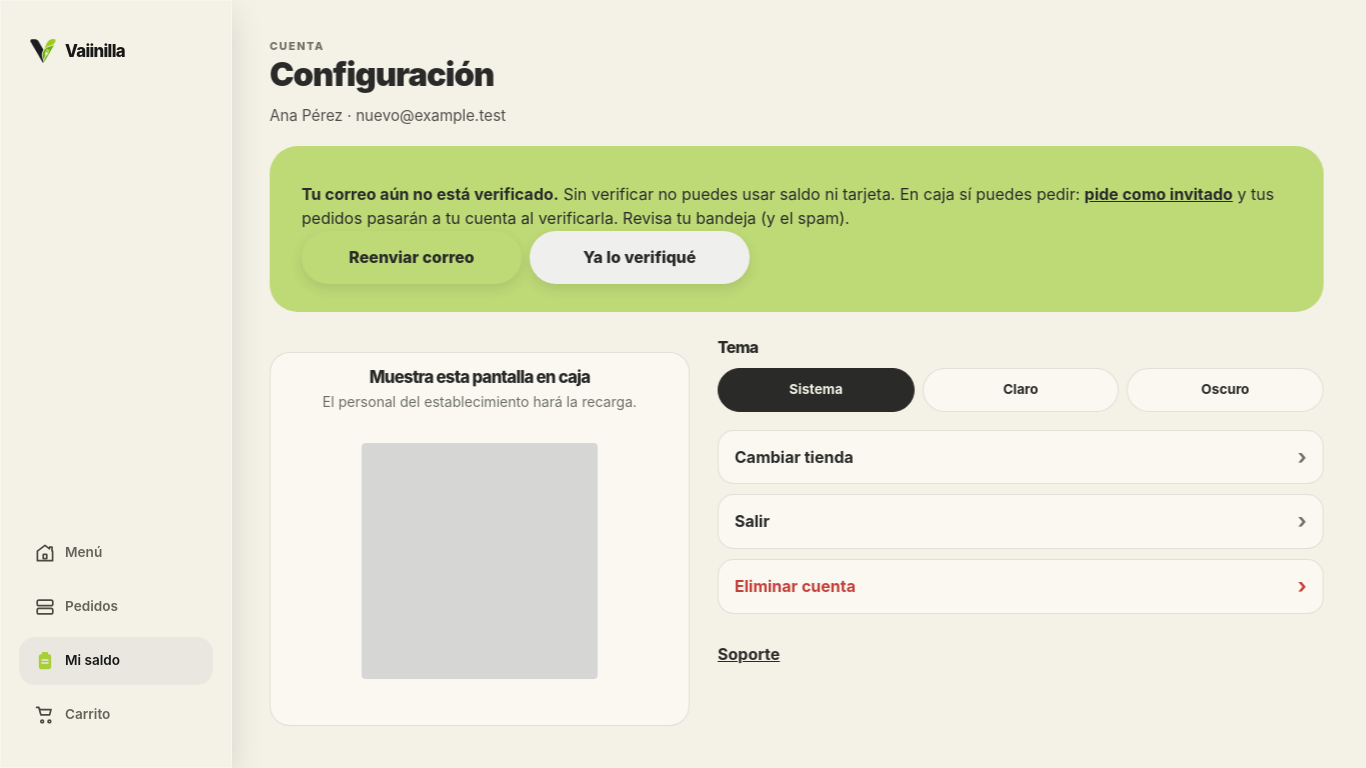
AccountPage › sin verificar avisa y reenvía el correo
Expected: the text "Tu correo aún no está verificado." is shown, [304,184,561,204]
Click the button "Reenviar correo" at (414, 258), box [304,231,524,284]
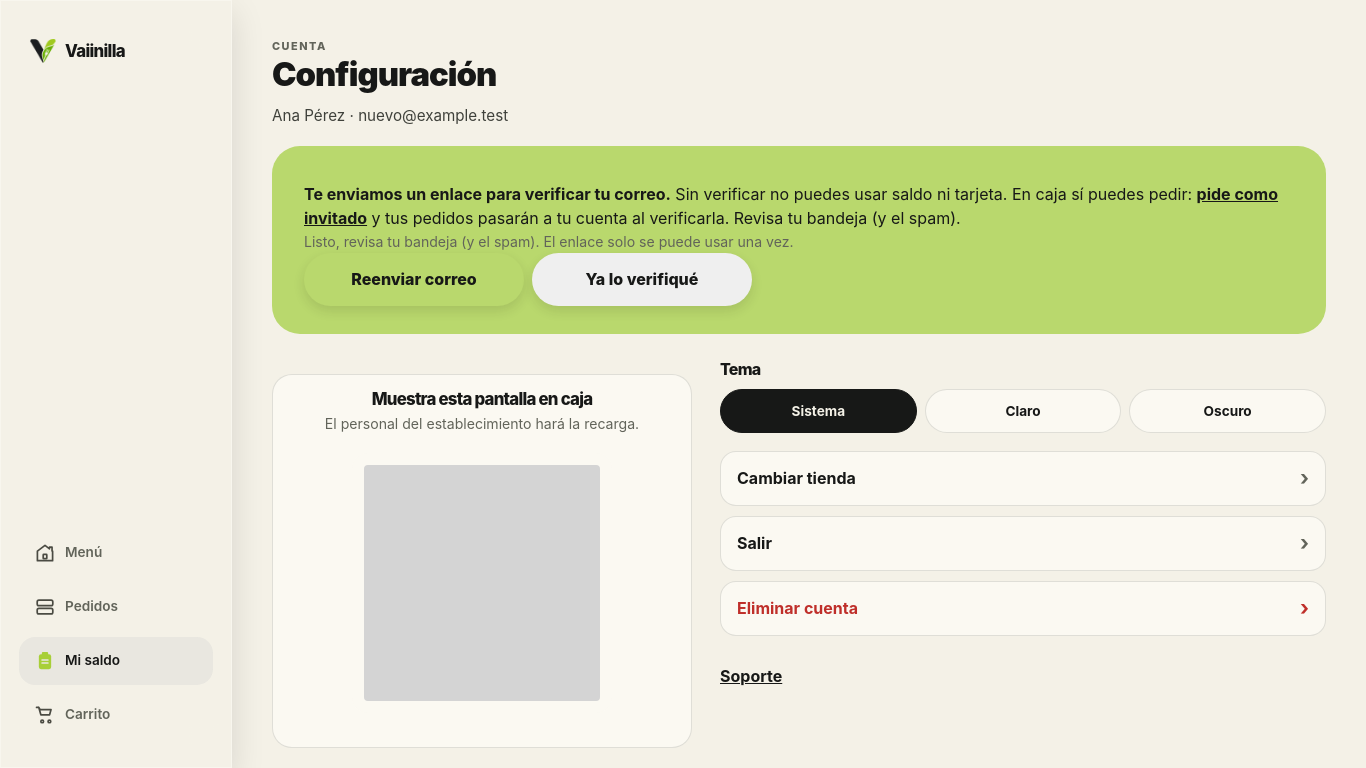
Expected: the text "Listo, revisa tu bandeja" is shown, [304,233,794,250]
